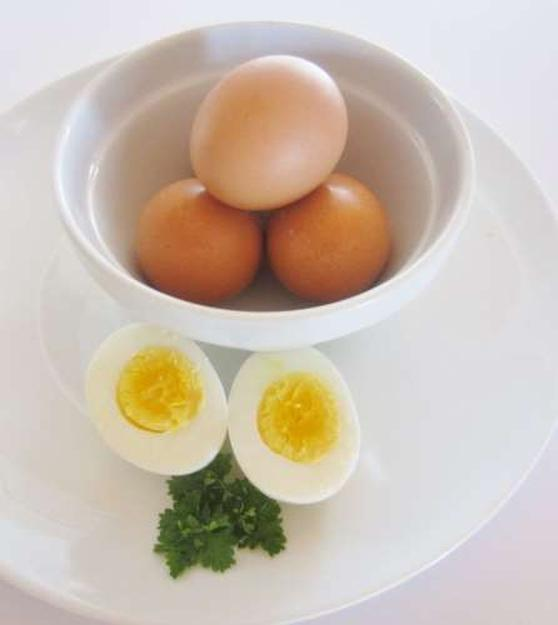egg: (189, 50, 350, 212), (142, 182, 265, 305)
